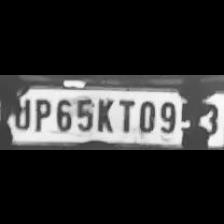0: (134, 97, 156, 133)
5: (73, 94, 93, 130)
6: (52, 94, 72, 130)
9: (156, 97, 176, 133)
K: (93, 95, 115, 133)
P: (30, 94, 52, 130)
T: (114, 96, 136, 132)
U: (9, 94, 31, 130)
